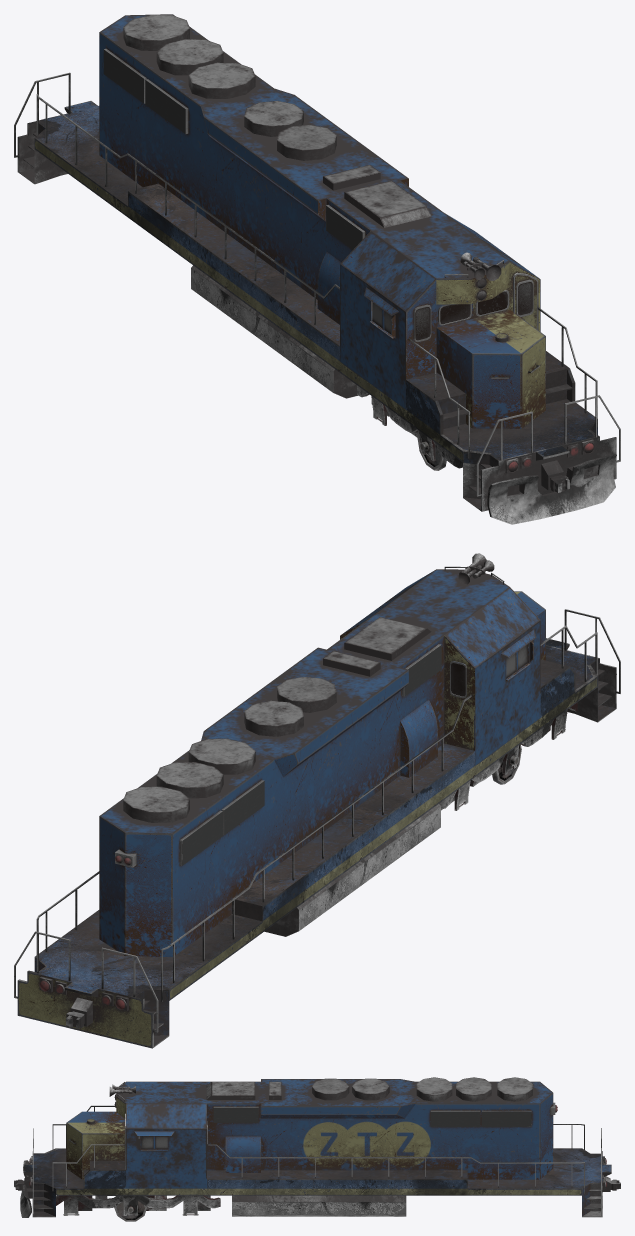
The model's file is Locomotive SD40-2.fbx.
3 renders of one model, top to bottom at view 1: azimuth 30°, elevation 25°; view 2: azimuth 150°, elevation 25°; view 3: azimuth 270°, elevation 25°, orthographic. The views are drawn at different scales.
Parts seen in each view (by area): view 1: Locomotive, Base, Details, HandleBars, Bogie; view 2: Locomotive, Base, Details, HandleBars, Bogie; view 3: Locomotive, Base, Details, Bogie, HandleBars, Wheel.
Boxes of the visible parts, x1,y1,x2,y2 form: Locomotive: (99,14,545,428); Base: (17,101,616,524); Details: (44,14,594,473); HandleBars: (14,72,620,496); Bogie: (357,385,462,468); Locomotive: (99,569,545,957); Base: (17,638,616,1048); Details: (39,553,589,1010); HandleBars: (14,566,620,1032); Bogie: (439,702,577,810); Locomotive: (66,1079,555,1188); Base: (14,1148,620,1217); Details: (29,1077,606,1189); Bogie: (56,1195,220,1215); HandleBars: (33,1082,601,1208); Wheel: (114,1201,147,1221).
Bounding box in the file's own units: 345 × 466 × 2032.
